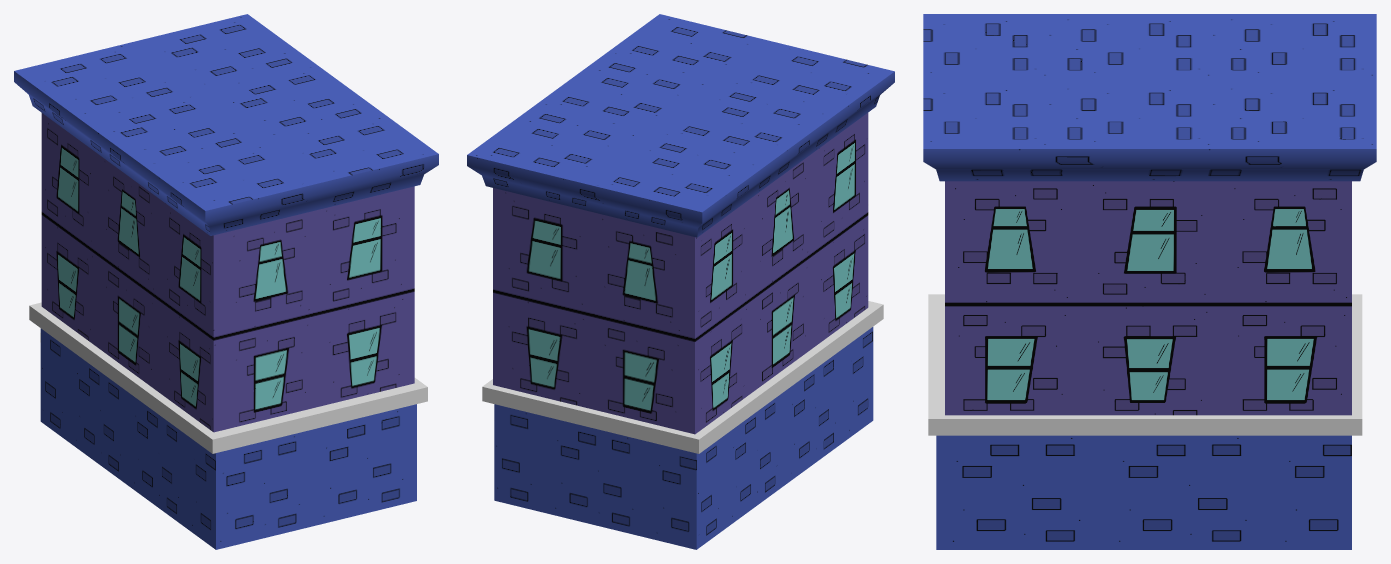
3 views of the same model, side by side, from view 1: azimuth 30°, elevation 25°; view 2: azimuth 150°, elevation 25°; view 3: azimuth 270°, elevation 25° (orthographic). The views are drawn at different scales.
Parts seen in each view (by area): view 1: Box003, Box004, Box001, Box002; view 2: Box003, Box004, Box001, Box002; view 3: Box003, Box004, Box001, Box002.
Part boxes in pixels (box(x1,y1,x2,y2)): Box003: box(41, 113, 414, 432); Box004: box(14, 14, 438, 235); Box001: box(40, 328, 416, 549); Box002: box(29, 302, 427, 453); Box003: box(493, 113, 868, 434); Box004: box(467, 14, 894, 237); Box001: box(494, 327, 873, 549); Box002: box(482, 301, 883, 453); Box003: box(945, 181, 1351, 415); Box004: box(923, 14, 1376, 181); Box001: box(936, 435, 1351, 549); Box002: box(928, 294, 1362, 435).
Bounding box in the file's own units: 5.81 × 8.25 × 8.25.
